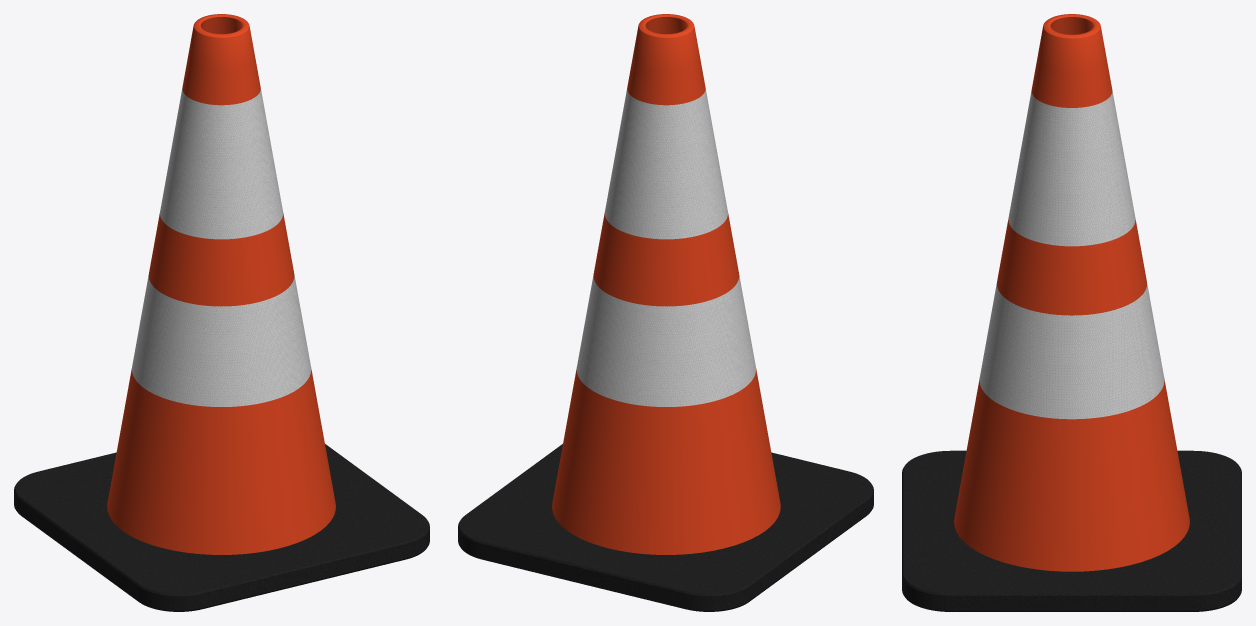
Rendered from Traffic Cone.fbx.
The picture shows the model from 3 angles, left to right: view 1: azimuth 30°, elevation 25°; view 2: azimuth 150°, elevation 25°; view 3: azimuth 270°, elevation 25°; orthographic projection. The views are drawn at different scales.
Parts seen in each view (by area): view 1: Cone; view 2: Cone; view 3: Cone.
Boxes of the visible parts, <box> form: Cone: <box>14,14,429,611</box>; Cone: <box>458,14,873,611</box>; Cone: <box>902,14,1241,611</box>.
Size of the model in its own units: 280 by 469 by 280.
